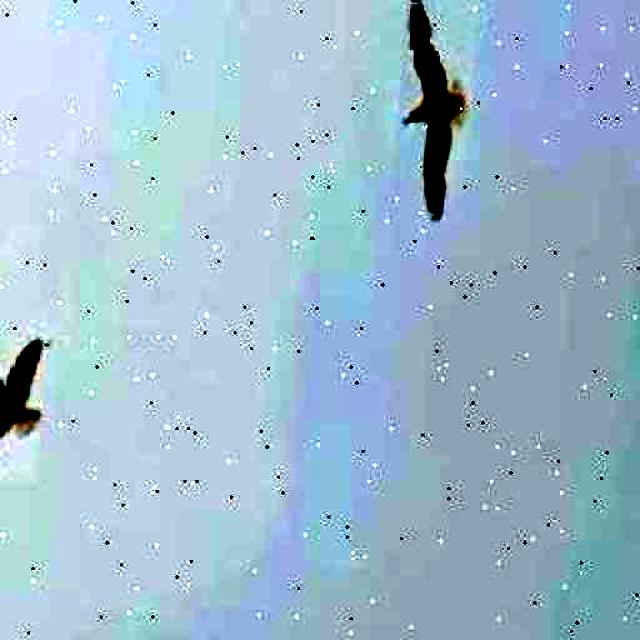airplane: (388, 0, 479, 225), (0, 330, 46, 484)
